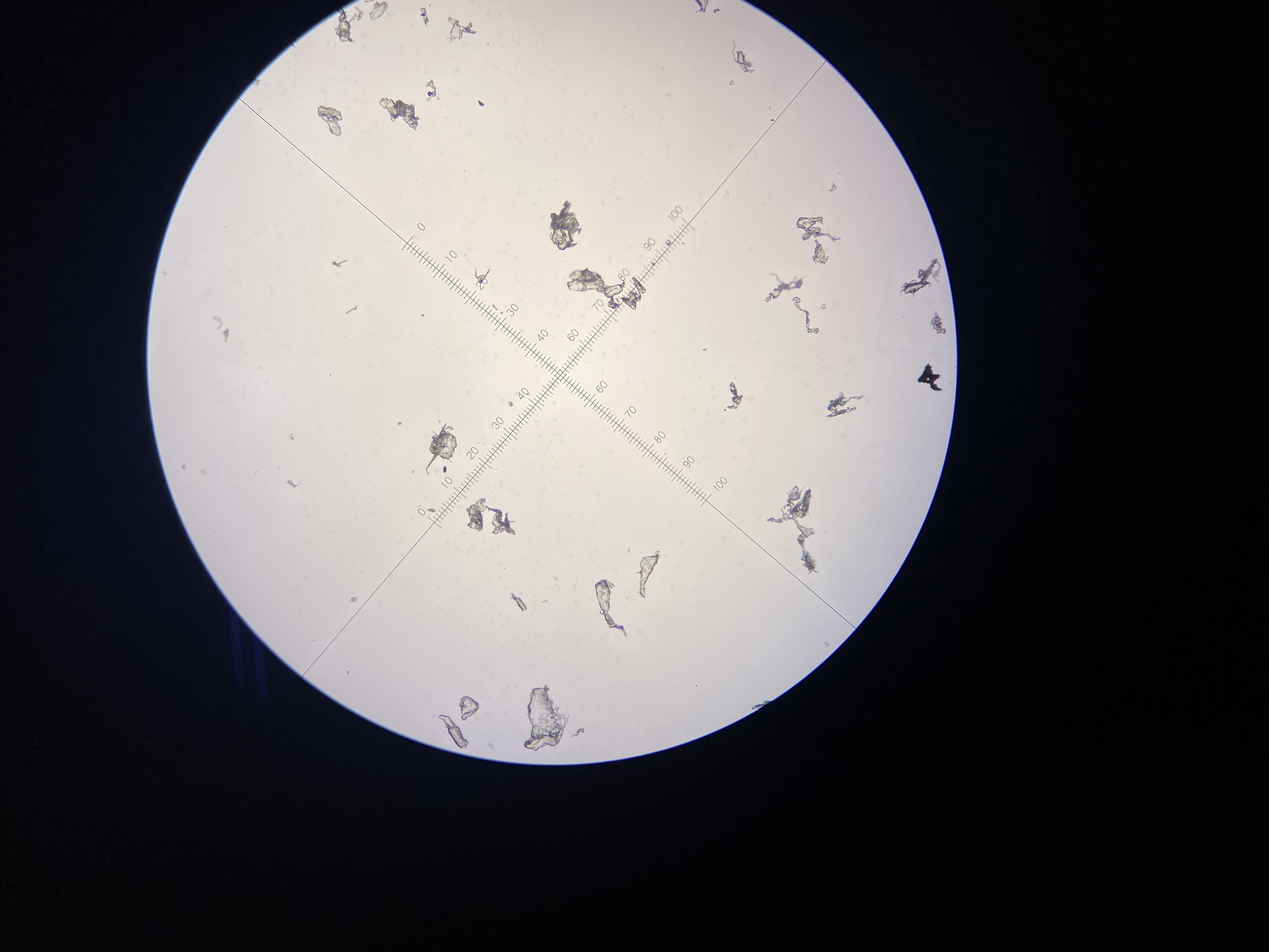microplastic: (766, 485, 819, 574), (524, 685, 570, 751), (567, 267, 626, 309), (595, 579, 627, 637), (466, 498, 516, 535), (549, 200, 582, 251), (426, 423, 457, 475), (900, 258, 941, 297), (379, 97, 420, 131), (764, 273, 807, 302), (637, 550, 662, 598), (796, 216, 841, 241), (826, 391, 864, 420), (334, 6, 363, 42), (438, 714, 468, 748), (792, 297, 819, 334), (621, 277, 646, 309), (732, 40, 756, 73), (317, 105, 342, 136), (446, 17, 477, 42), (917, 363, 942, 391), (726, 382, 743, 411), (459, 696, 479, 720), (812, 239, 828, 264), (930, 312, 946, 335), (369, 2, 388, 20), (510, 592, 527, 611), (426, 80, 439, 102), (475, 267, 491, 284), (751, 700, 772, 711), (695, 0, 711, 13), (420, 7, 429, 27), (571, 728, 584, 738), (332, 260, 349, 267), (345, 305, 358, 314), (287, 480, 301, 488), (214, 317, 223, 329), (223, 328, 230, 343), (493, 304, 503, 314), (829, 181, 837, 192), (349, 597, 358, 603), (478, 100, 484, 107), (487, 743, 494, 749), (427, 508, 437, 512), (713, 8, 721, 13), (729, 80, 735, 86), (289, 434, 295, 440), (200, 470, 207, 475), (443, 466, 447, 473), (821, 304, 826, 309), (182, 465, 187, 470), (509, 402, 513, 407), (702, 348, 707, 351)
